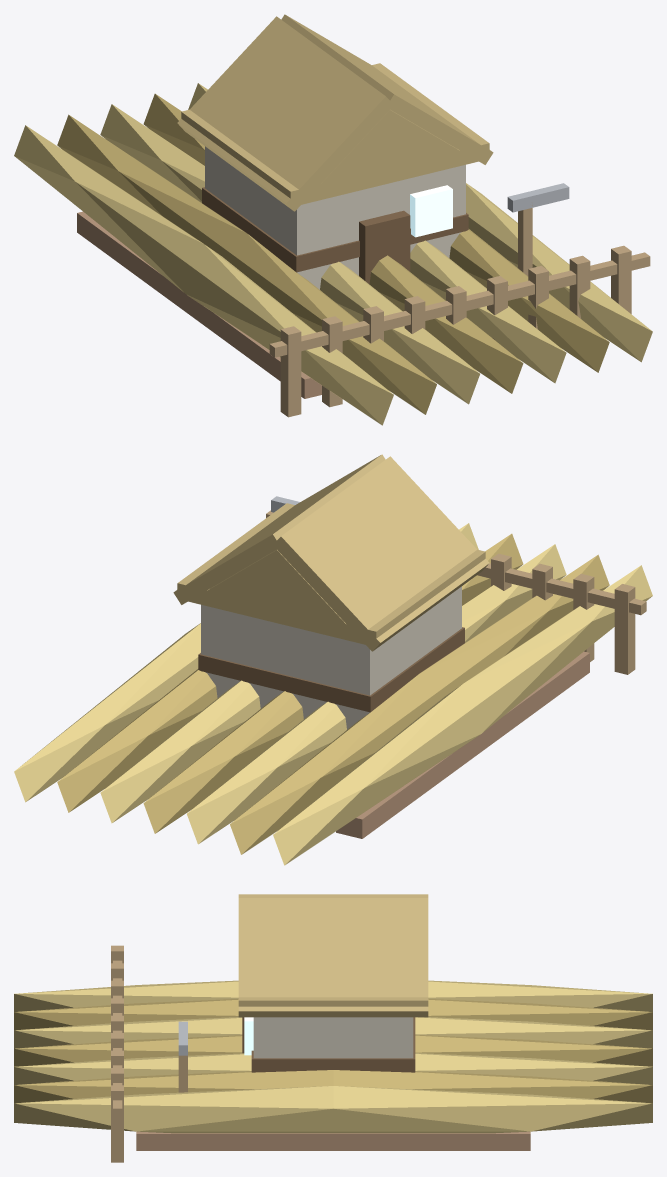
Rendered from farm.glb.
3 views of the same model, one above another, from view 1: azimuth 30°, elevation 25°; view 2: azimuth 150°, elevation 25°; view 3: azimuth 270°, elevation 25° (orthographic). The views are drawn at different scales.
Parts seen in each view (by area): view 1: Furrow0; view 2: Furrow0; view 3: Furrow0.
Boxes of the visible parts, x1,y1,x2,y2 form: Furrow0: [14, 14, 652, 425]; Furrow0: [14, 454, 652, 865]; Furrow0: [14, 894, 652, 1162].
Size of the model in its own units: 2 by 1.25 by 3.4.
